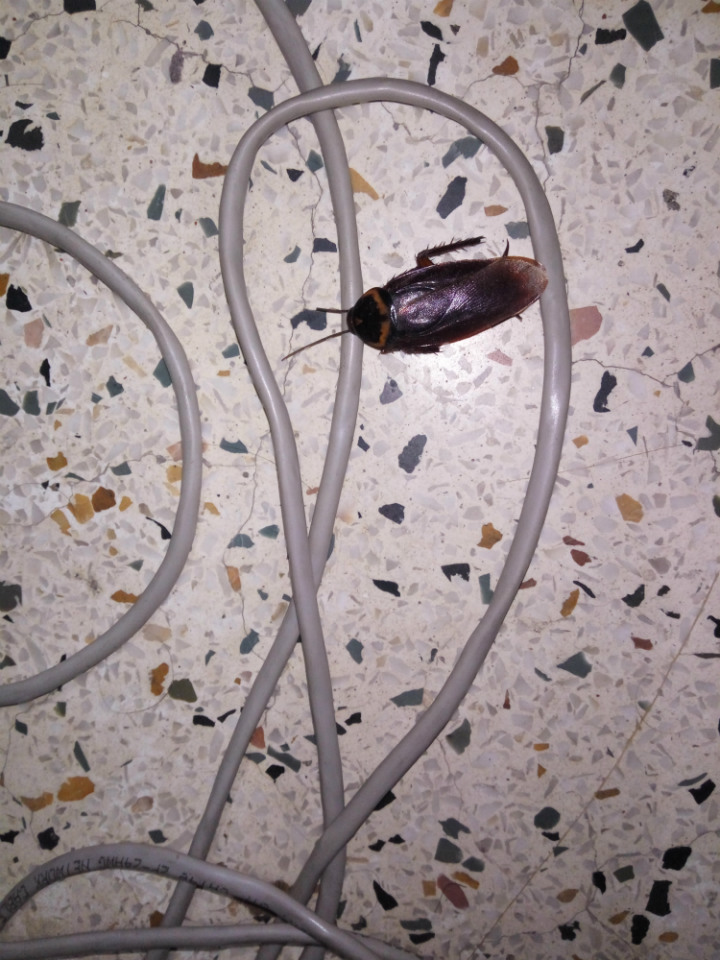cockroach: (291, 216, 594, 410)
